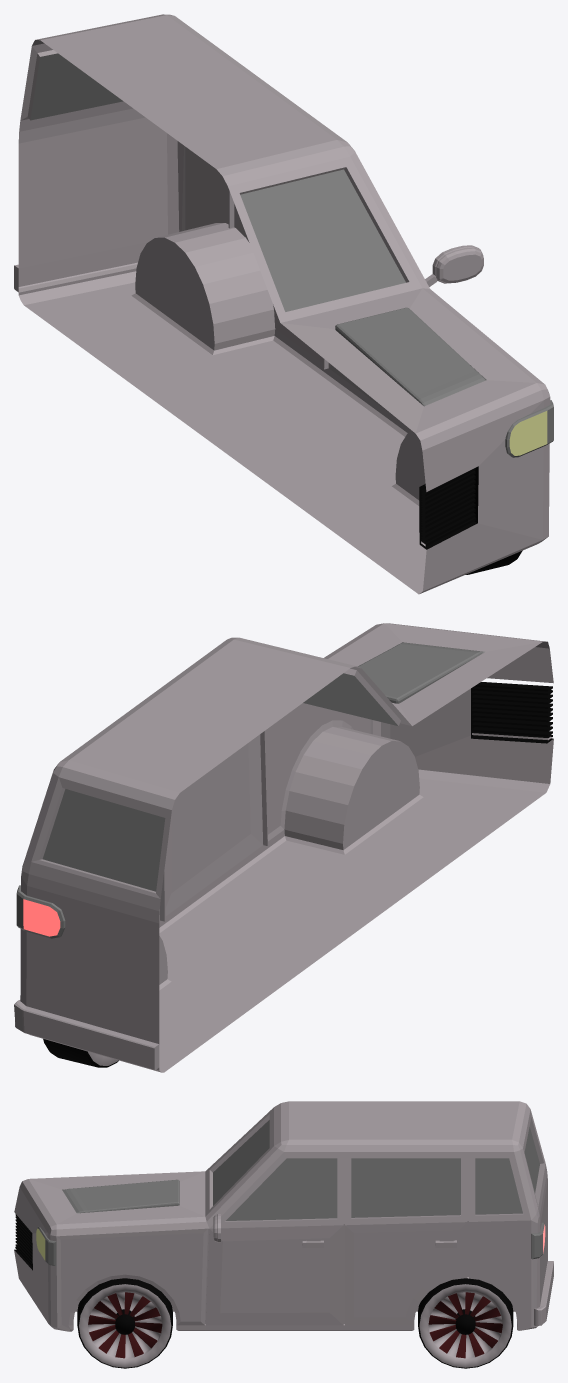
Rendered from car.fbx.
3 views of the same model, one above another, from view 1: azimuth 30°, elevation 25°; view 2: azimuth 150°, elevation 25°; view 3: azimuth 270°, elevation 25° (orthographic). The views are drawn at different scales.
Visible parts, largest first — view 1: Body, Mirror; view 2: Body, FrontWheel.001; view 3: Body, FrontWheel, FrontWheel.001.
Boxes of the visible parts, x1=… form: Body: x1=14, y1=14, x2=553, y2=594; Mirror: x1=425, y1=245, x2=483, y2=286; Body: x1=14, y1=623, x2=553, y2=1072; FrontWheel.001: x1=43, y1=1039, x2=118, y2=1067; Body: x1=14, y1=1101, x2=553, y2=1331; FrontWheel: x1=77, y1=1278, x2=172, y2=1368; FrontWheel.001: x1=418, y1=1278, x2=513, y2=1368.
Size of the model in its own units: 261 by 395 by 879.
